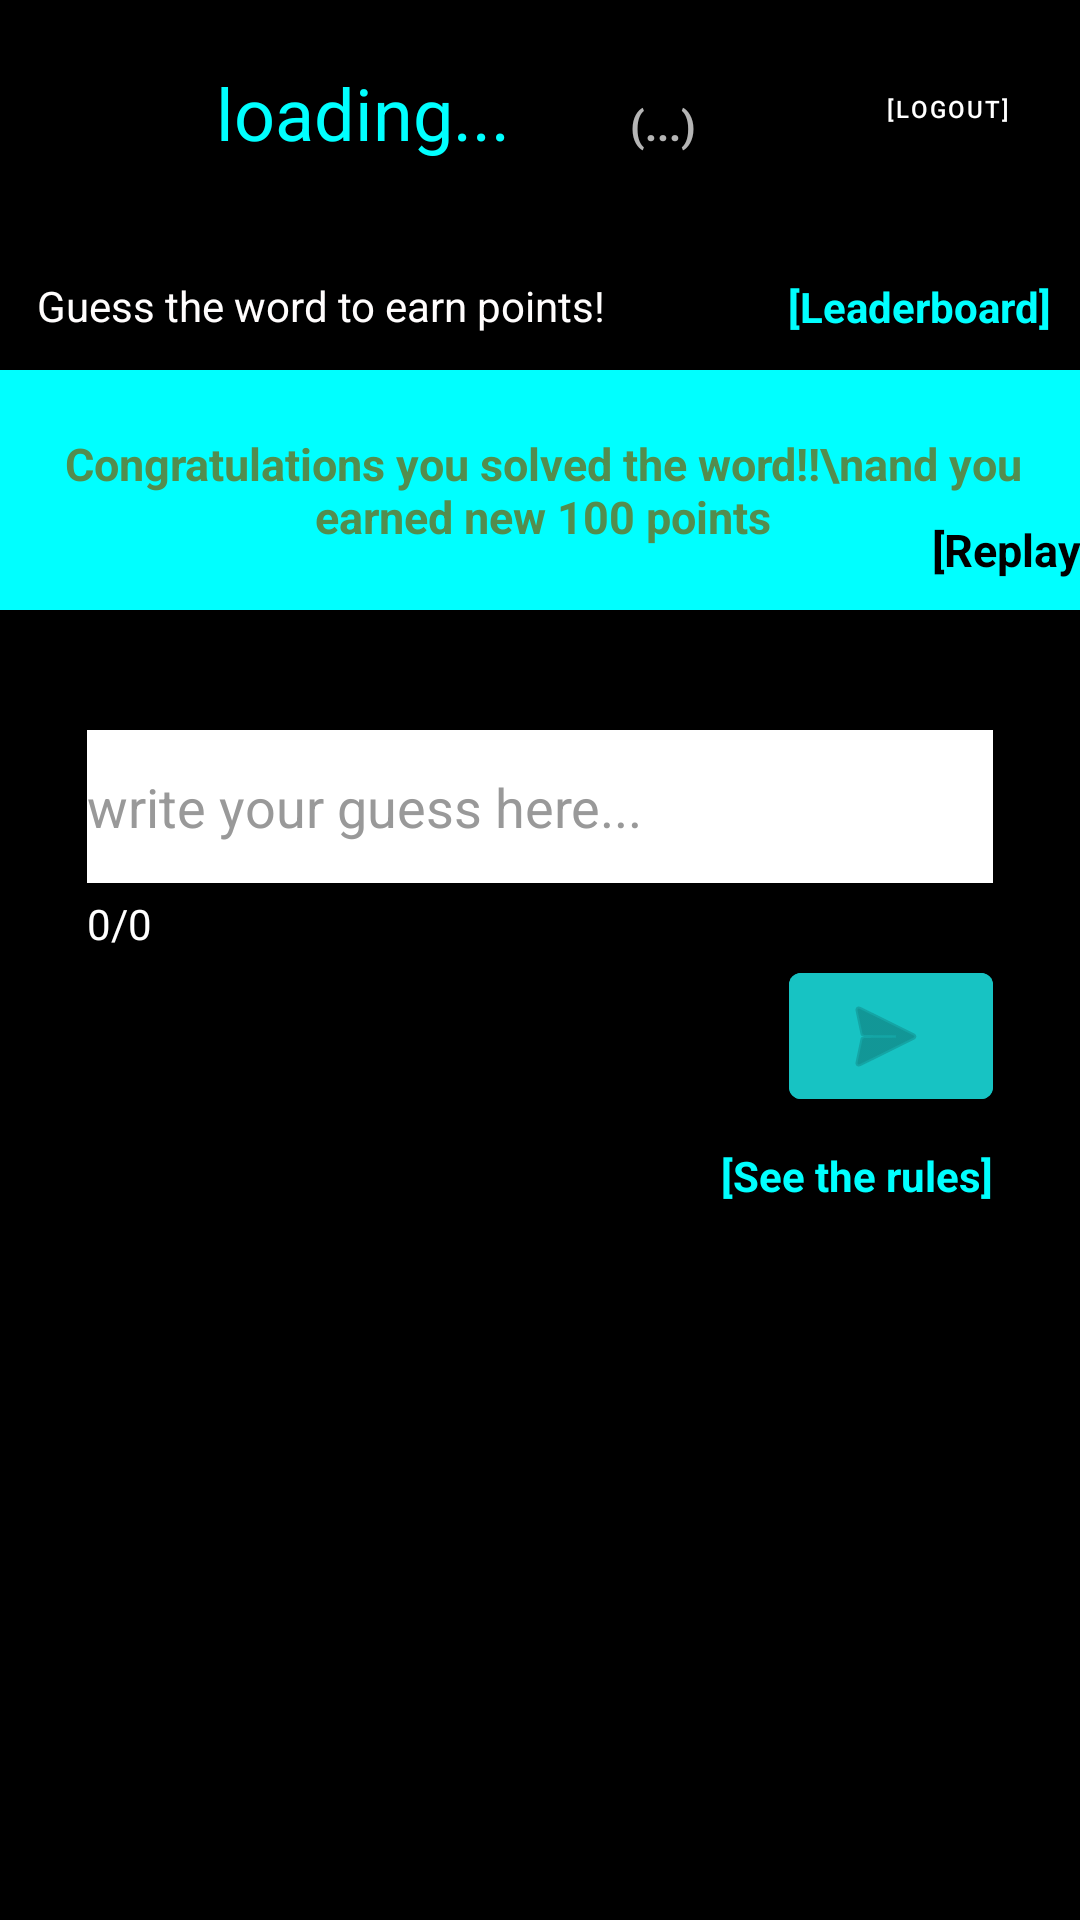

Where to tap for icons on this 1080x1920 app screen, as [x,y]:
send: [891,1036]
